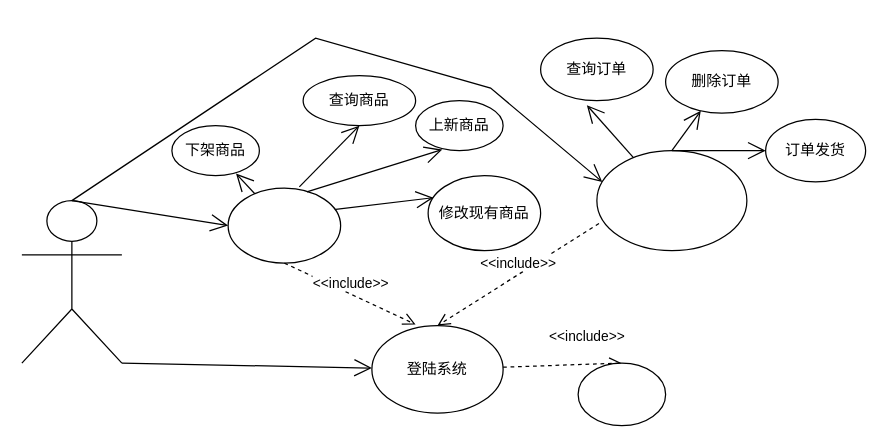
Some shapes in this 888 by 448 pixel diagram are drawn without their labels. The box of each missing label's shape, as (x1, y1, x2, y2) in pixels:
管理员: (21, 199, 122, 363)
管理商品系统: (227, 187, 341, 263)
管理订单系统: (596, 149, 747, 251)
身份验证: (577, 362, 666, 426)
